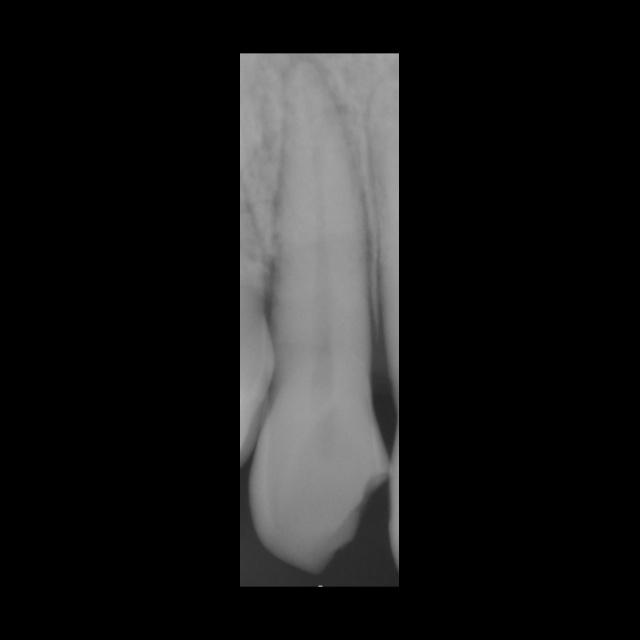tooth: (248, 58, 392, 578)
